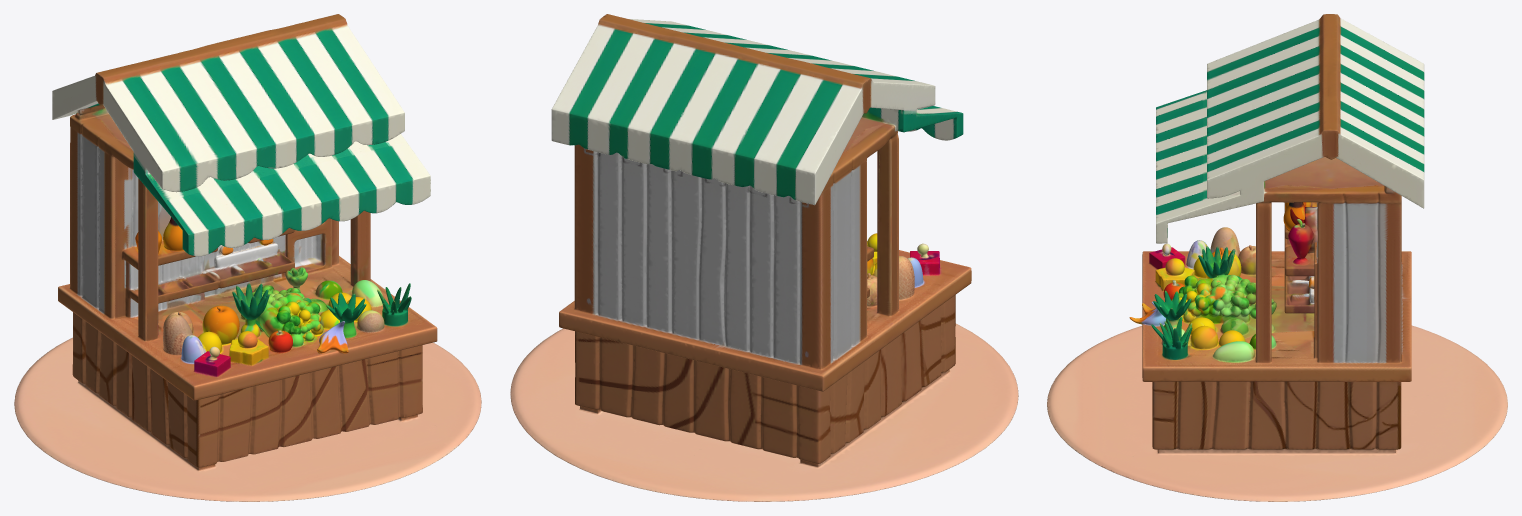
The model's file is Model_Market.glb.
3 renders of one model, left to right at view 1: azimuth 30°, elevation 25°; view 2: azimuth 150°, elevation 25°; view 3: azimuth 270°, elevation 25°, orthographic. The views are drawn at different scales.
Bounding box in the file's own units: 1.9 × 1.51 × 1.9.
Materials: 1 (1 with a texture image).
